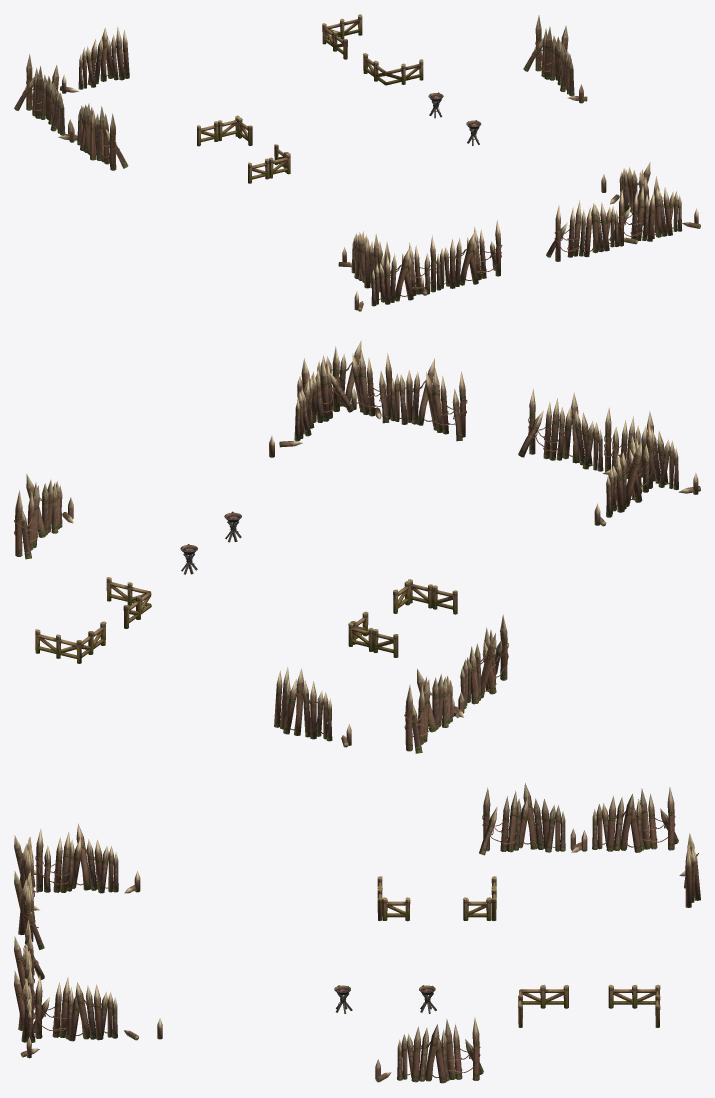
Rendered from yingdi001.FBX.
The picture shows the model from 3 angles, top to bottom: view 1: azimuth 30°, elevation 25°; view 2: azimuth 150°, elevation 25°; view 3: azimuth 270°, elevation 25°; orthographic projection. The views are drawn at different scales.
Visible parts, largest first — view 1: DrawCall_0533, DrawCall_1018, DrawCall_1020, DrawCall_1012, DrawCall_1017, DrawCall_1013, DrawCall_1015, DrawCall_1014, UB085_002, DrawCall_1021, DrawCall_1019, UB085_006 (+1 smaller); view 2: DrawCall_1012, DrawCall_0533, DrawCall_1019, DrawCall_1017, DrawCall_1020, DrawCall_1015, DrawCall_1013, DrawCall_1021, DrawCall_1014, DrawCall_1018, UB085_002, UB085_005 (+1 smaller); view 3: DrawCall_1021, DrawCall_1014, DrawCall_1019, DrawCall_1013, DrawCall_1015, UB085_002, DrawCall_1018, DrawCall_1012, DrawCall_1017, DrawCall_0533, DrawCall_1020, UB085_004 (+1 smaller).
Part boxes in pixels (box(x1,y1,x2,y2)): DrawCall_0533: box(546, 200, 654, 261); DrawCall_1018: box(609, 186, 700, 246); DrawCall_1020: box(354, 235, 437, 311); DrawCall_1012: box(420, 220, 502, 295); DrawCall_1017: box(59, 26, 129, 93); DrawCall_1013: box(523, 15, 587, 103); DrawCall_1015: box(14, 54, 77, 142); DrawCall_1014: box(64, 103, 128, 170); UB085_002: box(322, 14, 423, 85); DrawCall_1021: box(338, 231, 390, 291); DrawCall_1019: box(601, 162, 659, 234); UB085_006: box(248, 153, 290, 183); DrawCall_1012: box(518, 388, 620, 474); DrawCall_0533: box(351, 358, 467, 441); DrawCall_1019: box(269, 346, 353, 457); DrawCall_1017: box(274, 667, 351, 747); DrawCall_1020: box(604, 407, 700, 494); DrawCall_1015: box(404, 668, 464, 753); DrawCall_1013: box(14, 474, 73, 559); DrawCall_1021: box(594, 423, 654, 526); DrawCall_1014: box(452, 614, 508, 717); DrawCall_1018: box(297, 340, 392, 423); UB085_002: box(35, 577, 151, 663); UB085_005: box(348, 622, 398, 657); DrawCall_1021: box(35, 823, 140, 893); DrawCall_1014: box(479, 783, 587, 855); DrawCall_1019: box(33, 975, 162, 1041); DrawCall_1013: box(375, 1017, 483, 1083); DrawCall_1015: box(570, 787, 678, 852); UB085_002: box(518, 984, 660, 1027); DrawCall_1018: box(14, 954, 41, 1058); DrawCall_1012: box(14, 871, 44, 949); DrawCall_1017: box(679, 833, 700, 907); DrawCall_0533: box(14, 920, 44, 1018); DrawCall_1020: box(14, 835, 38, 896); UB085_004: box(463, 897, 491, 920).
Bounding box in the file's own units: 31.65 × 3.87 × 37.73.
